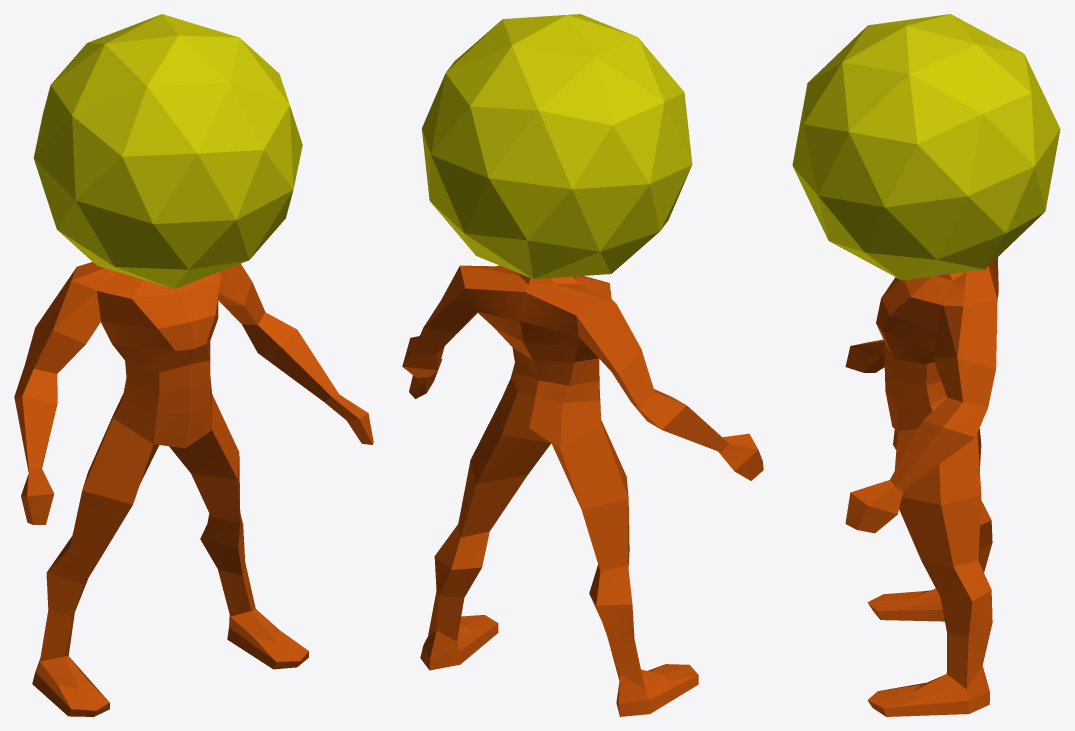
File: sonce2.gltf
3 renders of one model, left to right at view 1: azimuth 30°, elevation 25°; view 2: azimuth 150°, elevation 25°; view 3: azimuth 270°, elevation 25°, orthographic. The views are drawn at different scales.
Visible parts, largest first — view 1: Icosphere; view 2: Icosphere; view 3: Icosphere.
Boxes of the visible parts, left/top/right/bottom form: Icosphere: left=14, top=14, right=373, bottom=716; Icosphere: left=402, top=14, right=763, bottom=716; Icosphere: left=792, top=14, right=1060, bottom=716.
Bounding box in the file's own units: 1.03 × 1.86 × 0.7126.
Materials: 2 (2 with a texture image).
